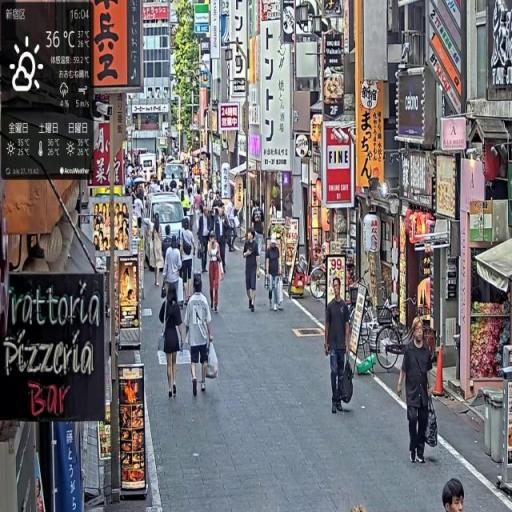person: (398, 316, 436, 465), (325, 276, 355, 416), (185, 271, 215, 399), (160, 281, 186, 400), (243, 228, 262, 315), (179, 219, 197, 307), (207, 231, 225, 314), (266, 234, 283, 313), (443, 478, 468, 512)
